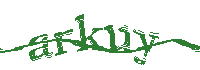a: (28, 33, 52, 61)
k: (73, 13, 104, 54)
r: (54, 26, 73, 57)
u: (104, 23, 132, 54)
y: (132, 28, 159, 68)
